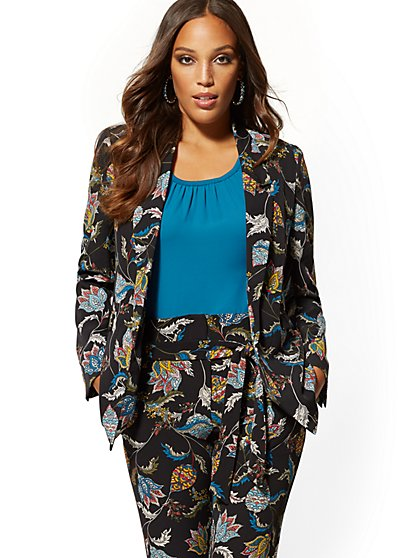F_W_suit jacket: (66, 118, 331, 428)
